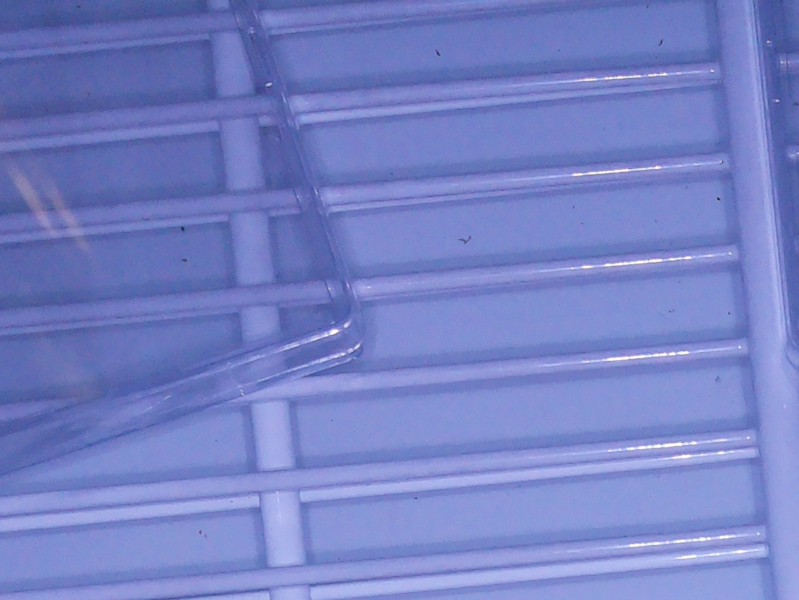plate: (1, 1, 365, 479)
